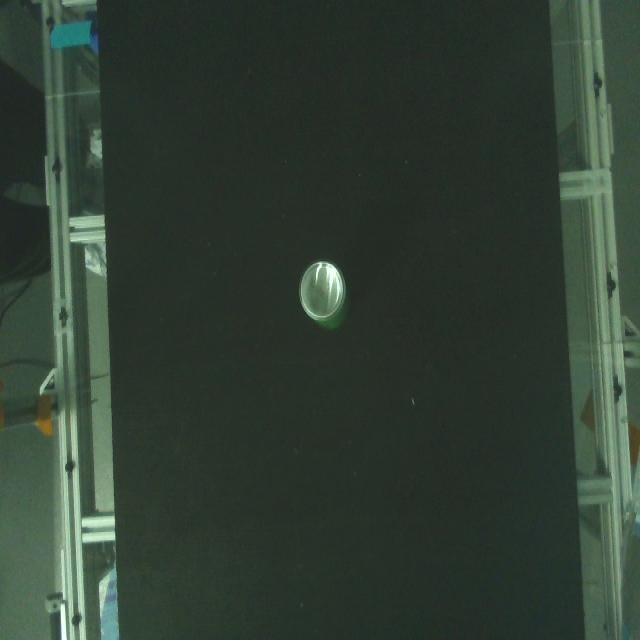non-paper: (294, 260, 353, 335)
